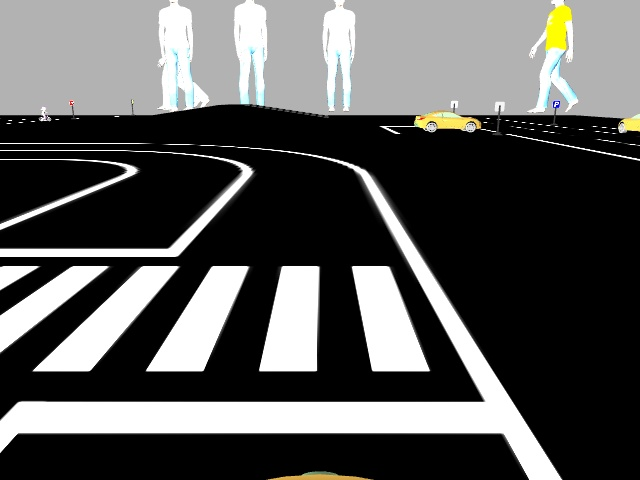Parking: (552, 99, 559, 108)
